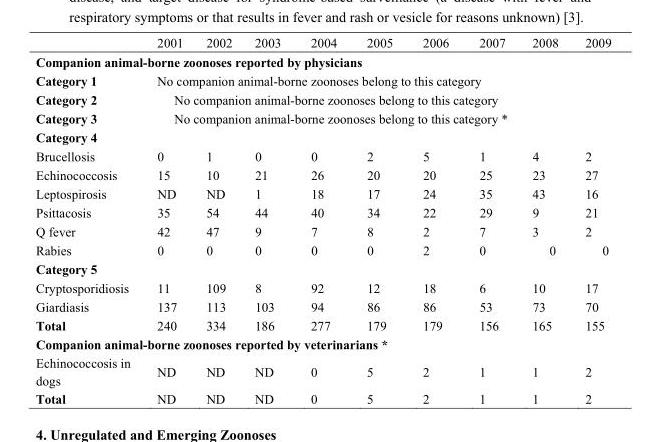table: (35, 34, 610, 405)
table column: (35, 34, 143, 405), (295, 34, 351, 405), (351, 34, 407, 405), (407, 34, 463, 405), (463, 34, 518, 405), (242, 34, 295, 405), (518, 34, 571, 405), (143, 34, 193, 405), (193, 34, 242, 405), (571, 34, 610, 405)
table column header: (35, 34, 610, 51)
table projected row header: (35, 51, 610, 71), (35, 127, 610, 146), (35, 259, 610, 278), (35, 334, 610, 353)
table row: (35, 353, 610, 389), (35, 51, 610, 71), (35, 89, 610, 108), (35, 108, 610, 127), (35, 127, 610, 146), (35, 146, 610, 165), (35, 183, 610, 202), (35, 202, 610, 221), (35, 221, 610, 240), (35, 240, 610, 259), (35, 259, 610, 278), (35, 296, 610, 315), (35, 315, 610, 334), (35, 334, 610, 353), (35, 71, 610, 89), (35, 165, 610, 183), (35, 278, 610, 296), (35, 34, 610, 51), (35, 389, 610, 405)
table spanning cell: (143, 89, 610, 108), (143, 108, 610, 127), (143, 71, 610, 89)
